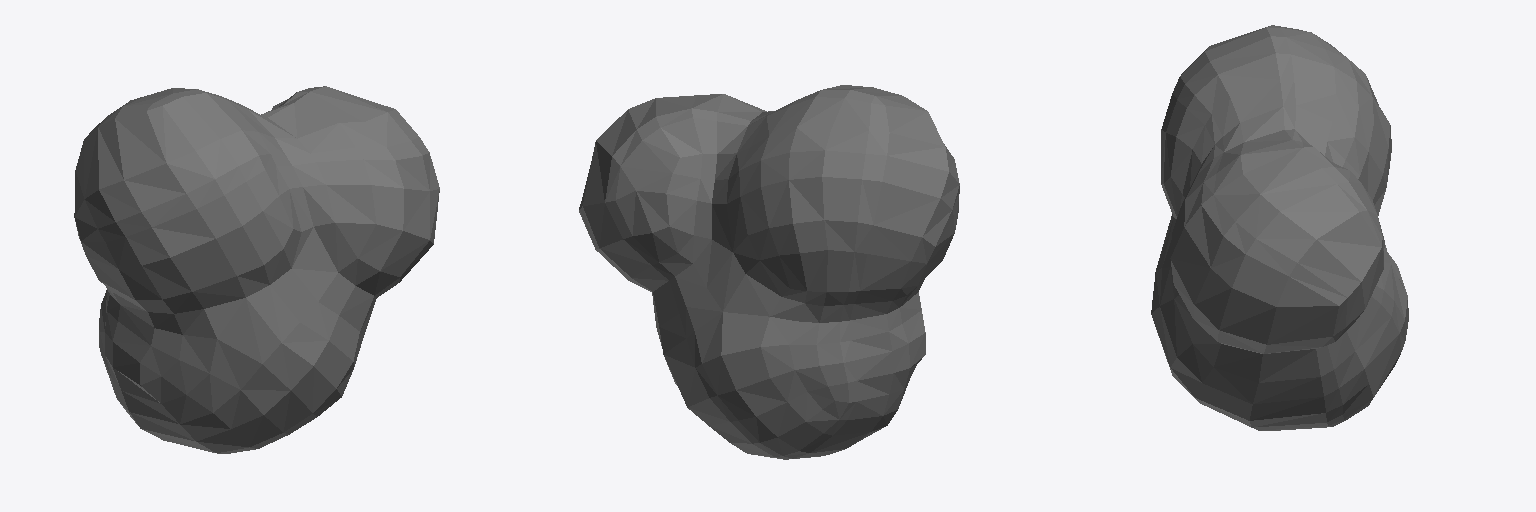
The model's file is smoke.obj.
3 views of the same model, side by side, from view 1: azimuth 30°, elevation 25°; view 2: azimuth 150°, elevation 25°; view 3: azimuth 270°, elevation 25° (orthographic).
Parts seen in each view (by area): view 1: smoke; view 2: smoke; view 3: smoke.
Part boxes in pixels (x1,y1,x2,y2): smoke: (74,86,439,453); smoke: (579,85,959,459); smoke: (1151,25,1408,430).
Bounding box in the file's own units: 23.69 × 23.92 × 15.38.